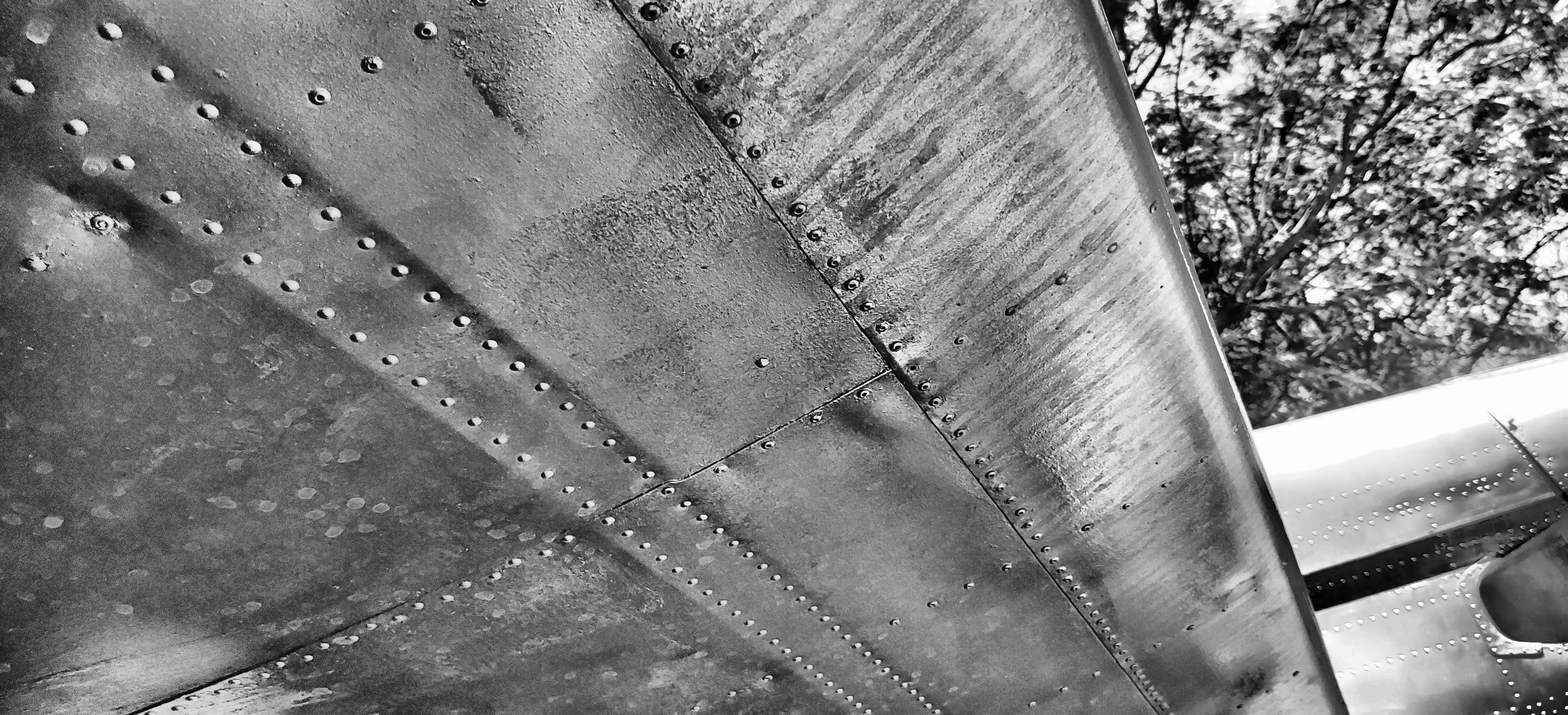dent: (1214, 568, 1262, 605), (1243, 677, 1278, 707)
missing-head: (908, 365, 920, 374)
